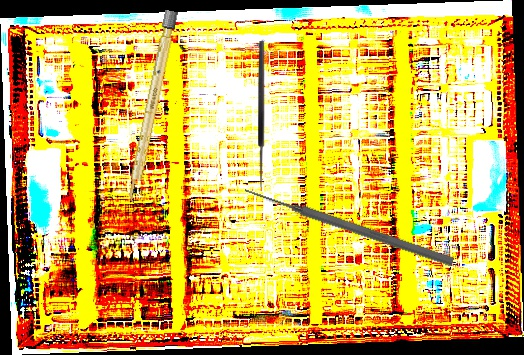Hook Surgical: (258, 41, 272, 188)
Pusher: (242, 183, 456, 269)
Scalpel Handle: (124, 9, 179, 204)
